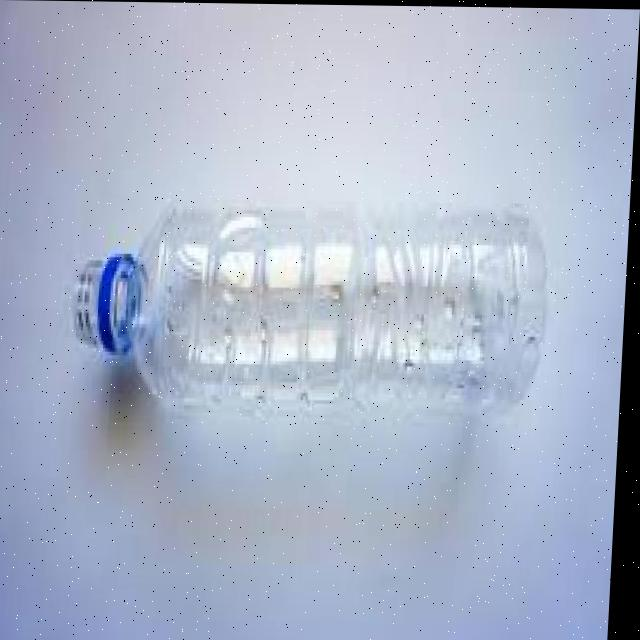bottle: (43, 144, 604, 584)
